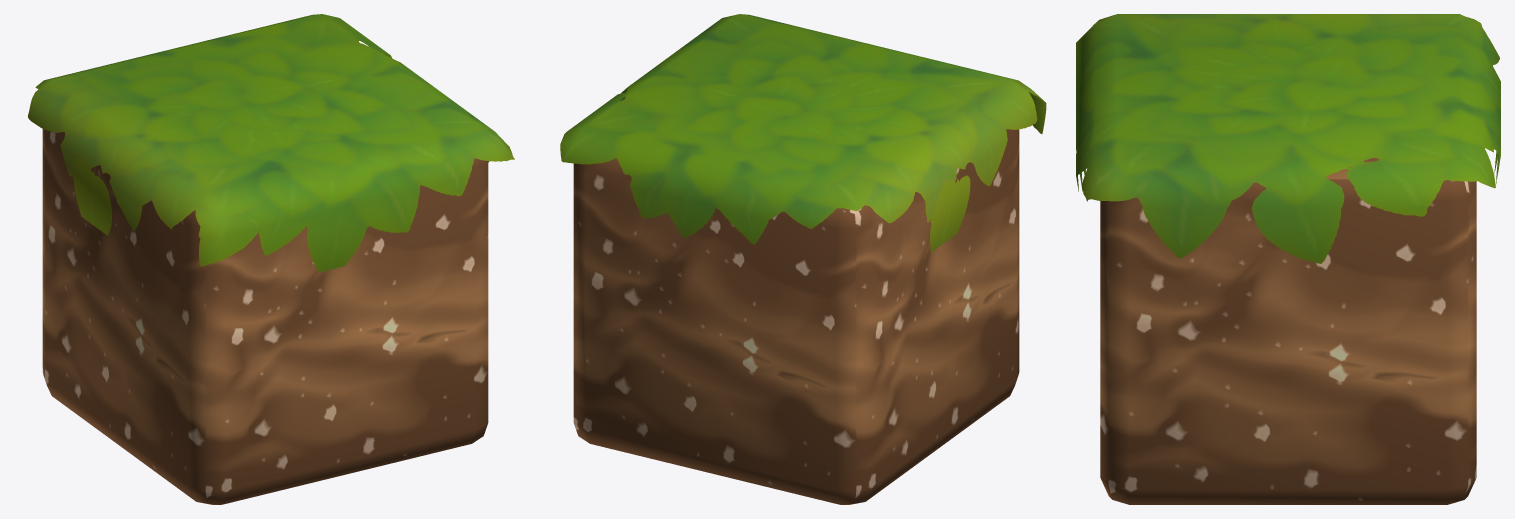
File: Tile_Field.fbx
The picture shows the model from 3 angles, left to right: view 1: azimuth 30°, elevation 25°; view 2: azimuth 150°, elevation 25°; view 3: azimuth 270°, elevation 25°; orthographic projection. The views are drawn at different scales.
Visible parts, largest first — view 1: Cube.031; view 2: Cube.031; view 3: Cube.031.
Part boxes in pixels (x1,y1,x2,y2): Cube.031: [28, 14, 514, 504]; Cube.031: [560, 14, 1046, 504]; Cube.031: [1076, 14, 1500, 504].
Bounding box in the file's own units: 226 × 205 × 226.
Materials: 2 (2 with a texture image).
